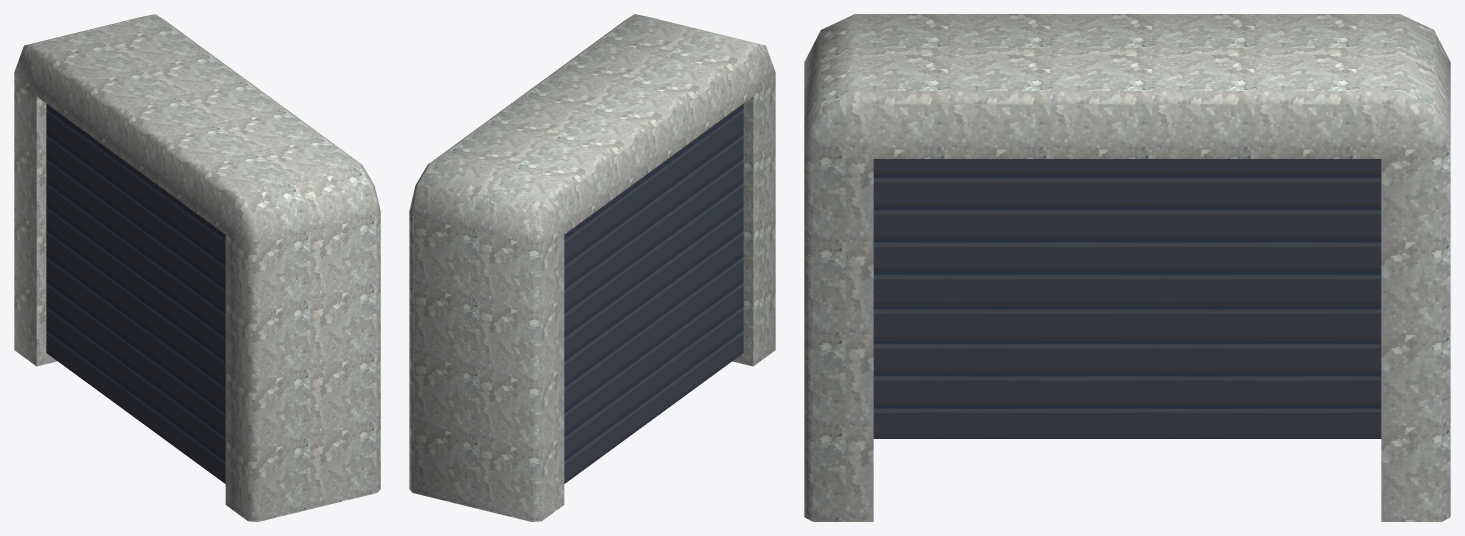
The model's file is loading_bay_door.FBX.
3 views of the same model, side by side, from view 1: azimuth 30°, elevation 25°; view 2: azimuth 150°, elevation 25°; view 3: azimuth 270°, elevation 25° (orthographic). The views are drawn at different scales.
Visible parts, largest first — view 1: _frame, _door; view 2: _frame, _door; view 3: _frame, _door.
Part boxes in pixels (bbox=[...]): _frame: bbox=[14, 14, 380, 521]; _door: bbox=[46, 103, 225, 483]; _frame: bbox=[409, 14, 775, 521]; _door: bbox=[564, 103, 743, 483]; _frame: bbox=[804, 14, 1450, 521]; _door: bbox=[873, 159, 1381, 438].
Bounding box in the file's own units: 1.41 × 3.22 × 4.43.
